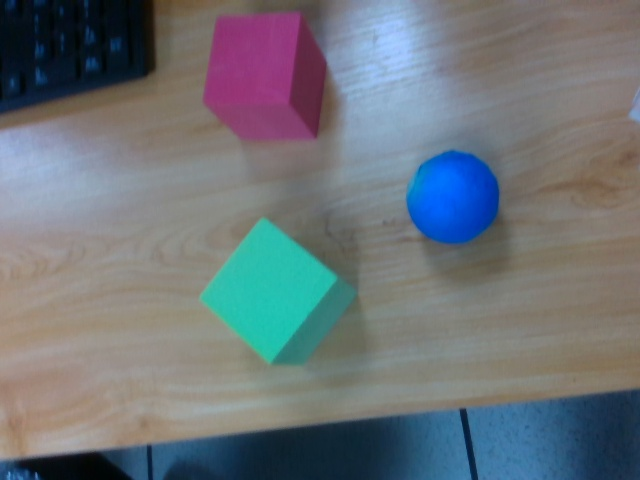blueball: (406, 147, 499, 245)
green: (197, 214, 358, 366)
red: (202, 13, 326, 137)
